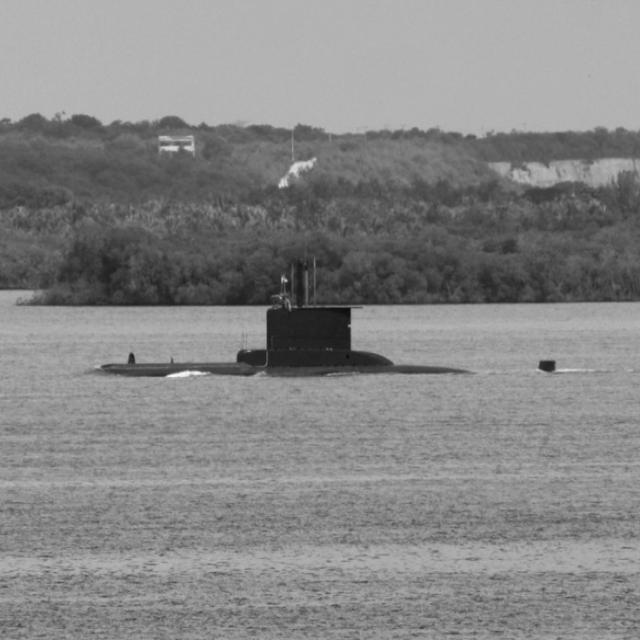submarine: (96, 241, 577, 385)
